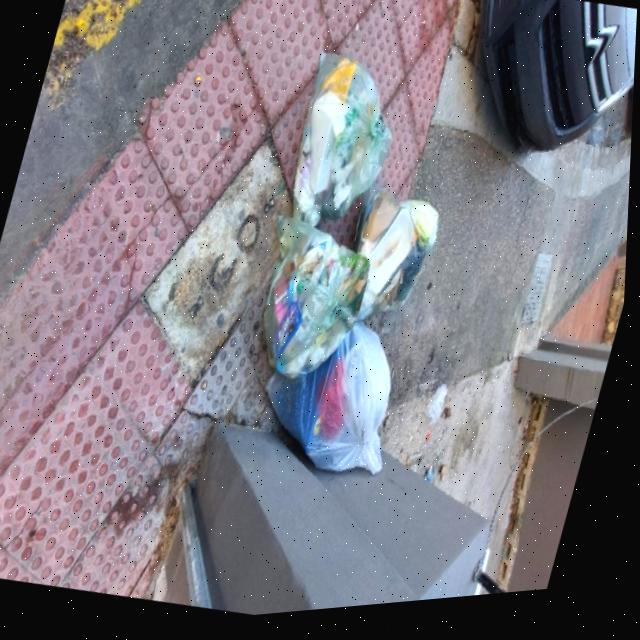Organic Waste -White Bag-: (250, 310, 423, 493), (238, 213, 385, 399), (277, 53, 414, 249), (331, 191, 447, 345)
